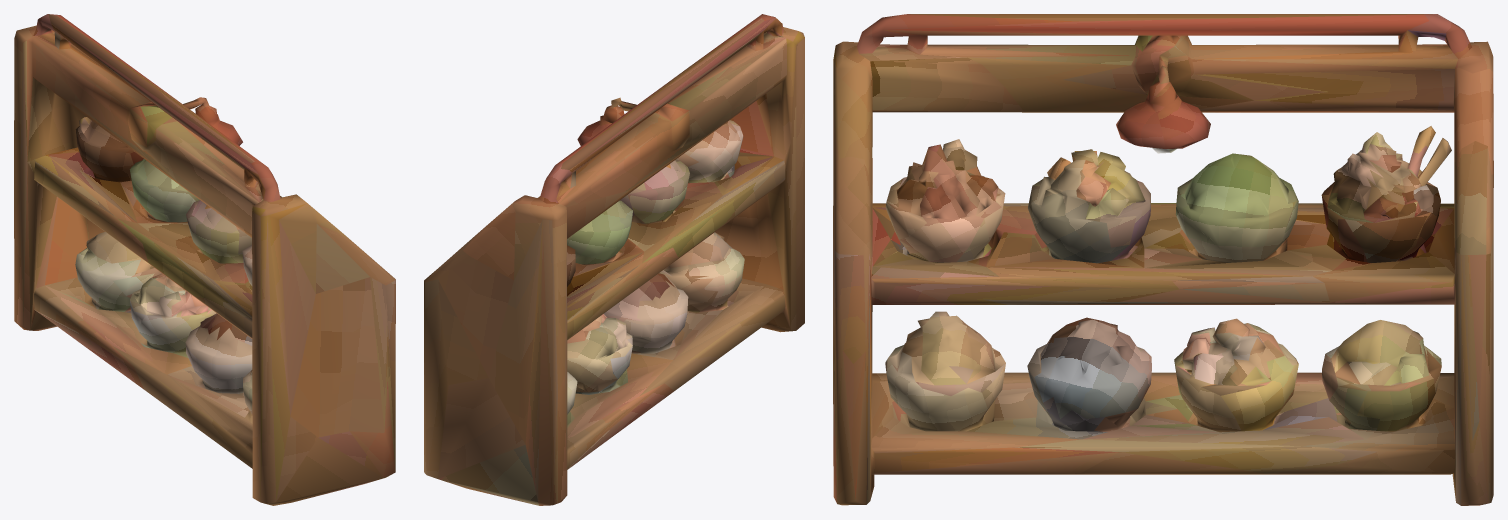
The model's file is KR_사물_s1_prop_bingsu_stack.glb.
3 renders of one model, left to right at view 1: azimuth 30°, elevation 25°; view 2: azimuth 150°, elevation 25°; view 3: azimuth 270°, elevation 25°, orthographic. The views are drawn at different scales.
Parts seen in each view (by area): view 1: tripo_node_a601db23-7603-43de-a5c2-e4e58d8c8832; view 2: tripo_node_a601db23-7603-43de-a5c2-e4e58d8c8832; view 3: tripo_node_a601db23-7603-43de-a5c2-e4e58d8c8832.
Part boxes in pixels (bbox=[...]): tripo_node_a601db23-7603-43de-a5c2-e4e58d8c8832: bbox=[14, 14, 395, 505]; tripo_node_a601db23-7603-43de-a5c2-e4e58d8c8832: bbox=[424, 14, 804, 505]; tripo_node_a601db23-7603-43de-a5c2-e4e58d8c8832: bbox=[833, 14, 1493, 505].
Size of the model in its own units: 0.3093 by 0.7095 by 0.9996.
1 material, 1 textured.
